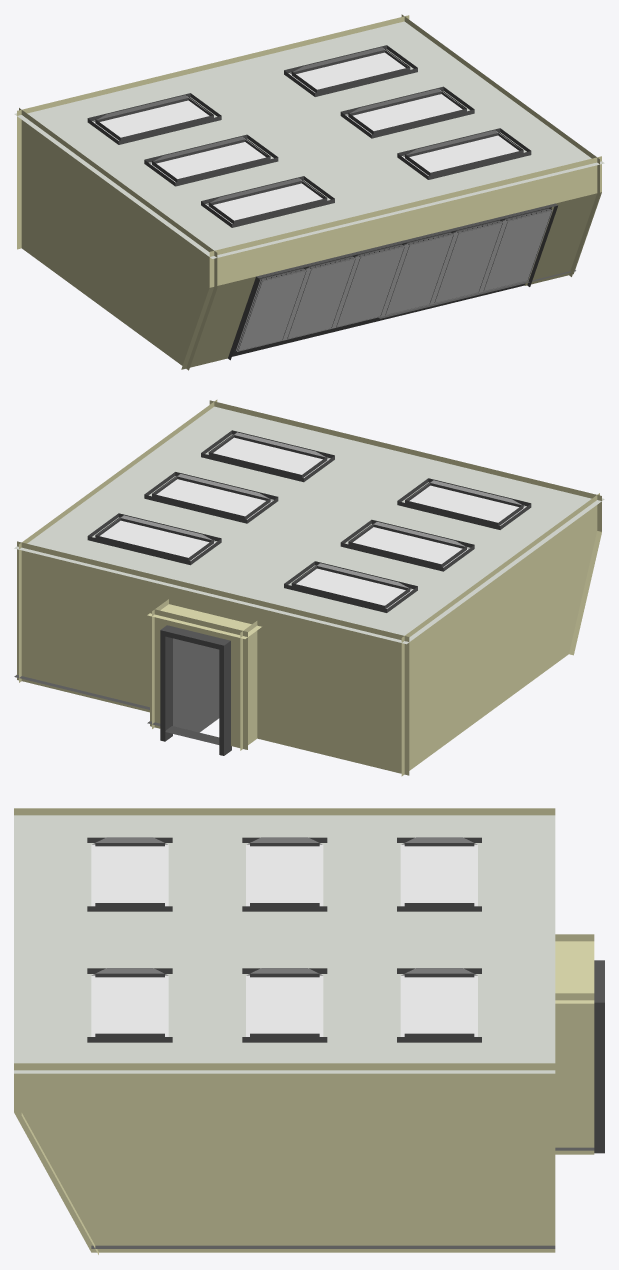
File: blankRoom.glb
3 views of the same model, one above another, from view 1: azimuth 30°, elevation 25°; view 2: azimuth 150°, elevation 25°; view 3: azimuth 270°, elevation 25° (orthographic). The views are drawn at different scales.
Parts seen in each view (by area): view 1: brCeiling, brWWall, brWindow, brLights, brSWall, brNWall, brEWall; view 2: brCeiling, brNWall, brWWall, brLights, brDoorway, brFloor, doorFrame, brSWall, brEWall; view 3: brCeiling, brEWall, brLights, brDoorway, brWWall, doorFrame, brFloor.
Boxes of the visible parts, <box> form: brCeiling: <box>14,21,604,258</box>; brWWall: <box>19,108,217,370</box>; brWindow: <box>228,203,558,360</box>; brLights: <box>87,45,531,227</box>; brSWall: <box>181,156,601,369</box>; brNWall: <box>17,15,409,249</box>; brEWall: <box>401,14,599,276</box>; brCeiling: <box>14,406,604,644</box>; brNWall: <box>17,541,409,775</box>; brWWall: <box>401,493,599,776</box>; brLights: <box>87,430,531,612</box>; brDoorway: <box>147,599,261,750</box>; brFloor: <box>14,638,219,732</box>; doorFrame: <box>160,625,231,755</box>; brSWall: <box>209,400,601,655</box>; brEWall: <box>19,399,217,682</box>; brCeiling: <box>14,815,555,1073</box>; brEWall: <box>14,1063,555,1252</box>; brLights: <box>87,837,481,1042</box>; brDoorway: <box>555,934,594,1154</box>; brWWall: <box>14,808,555,815</box>; doorFrame: <box>594,960,604,1153</box>; brFloor: <box>91,1147,594,1248</box>.
Bounding box in the file's own units: 8 × 2.9 × 7.64.
